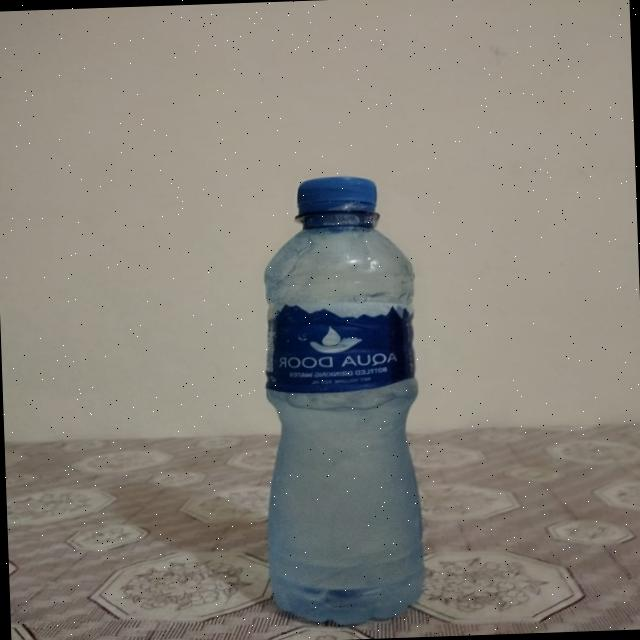bottle: (250, 172, 428, 630)
cap: (296, 174, 378, 216)
label: (258, 300, 416, 396)
